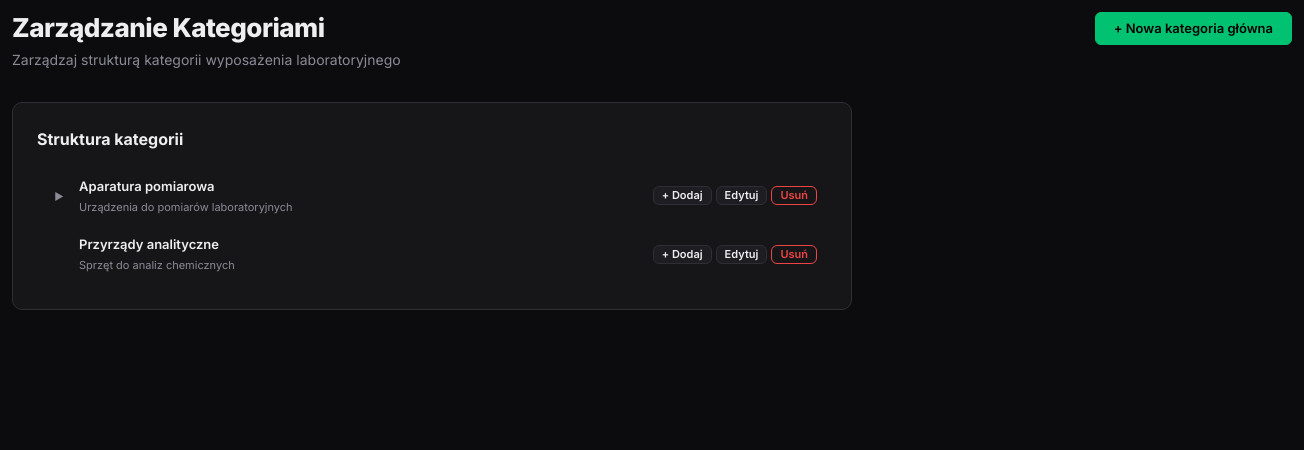
Test case: CategoriesPage › Root category form › should open root category form when button clicked
Step 1. Click the button "+ Nowa kategoria główna" → (1193, 28), box [1095,12,1292,45]
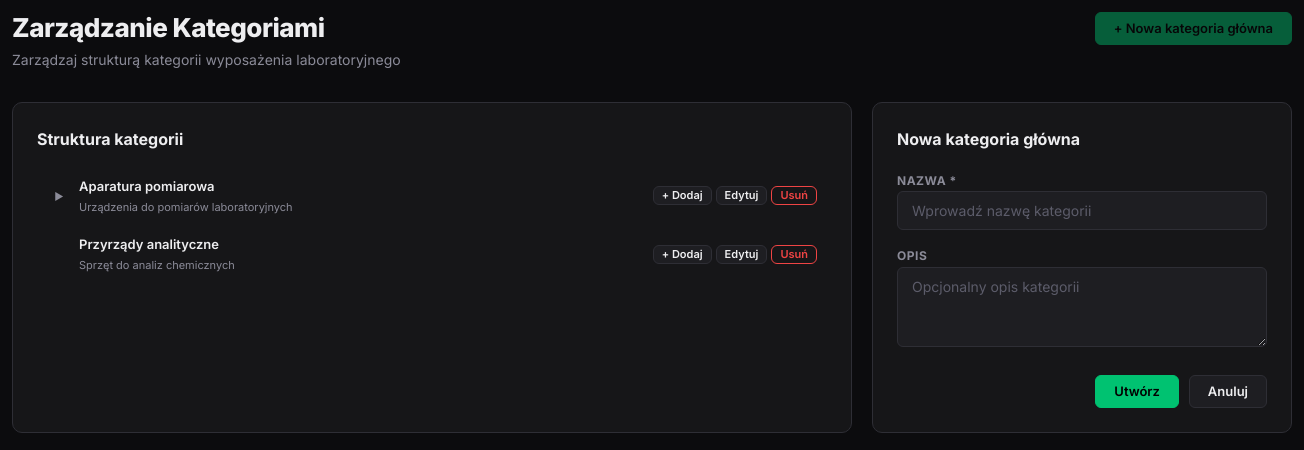
Result: the heading "Nowa kategoria główna" is shown at [897,129,1080,149]
